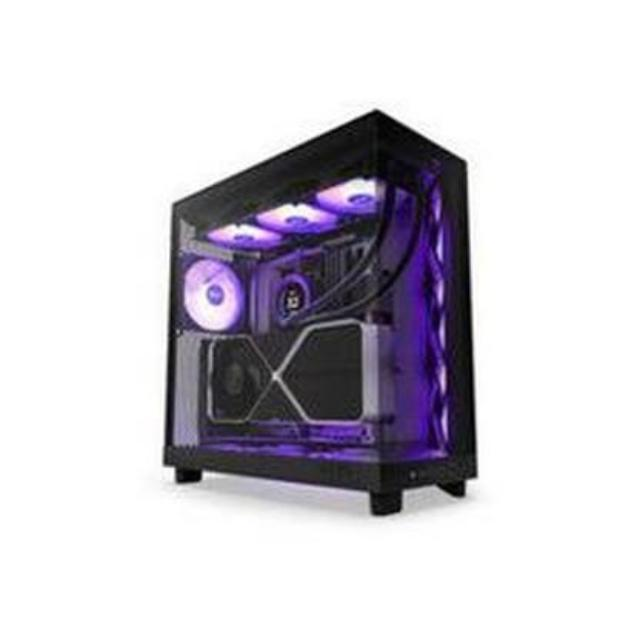GPU: (198, 324, 407, 434)
